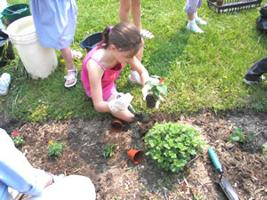person: (79, 23, 162, 124)
